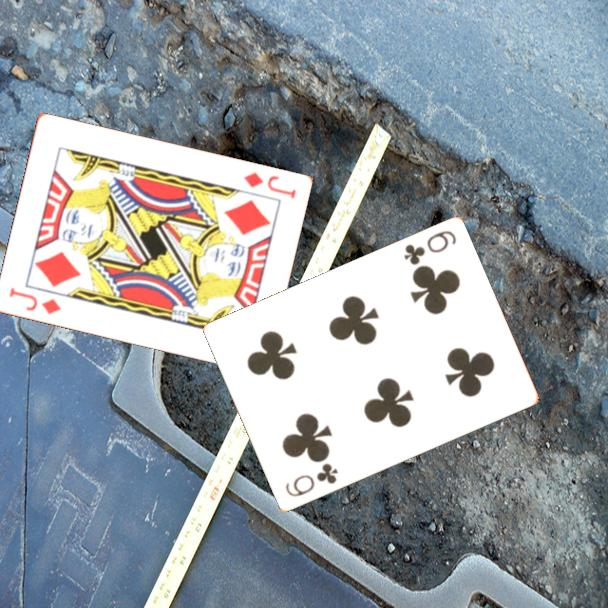c06: (400, 227, 459, 268), (282, 460, 341, 500)
d11: (239, 168, 299, 202), (5, 284, 64, 318)
